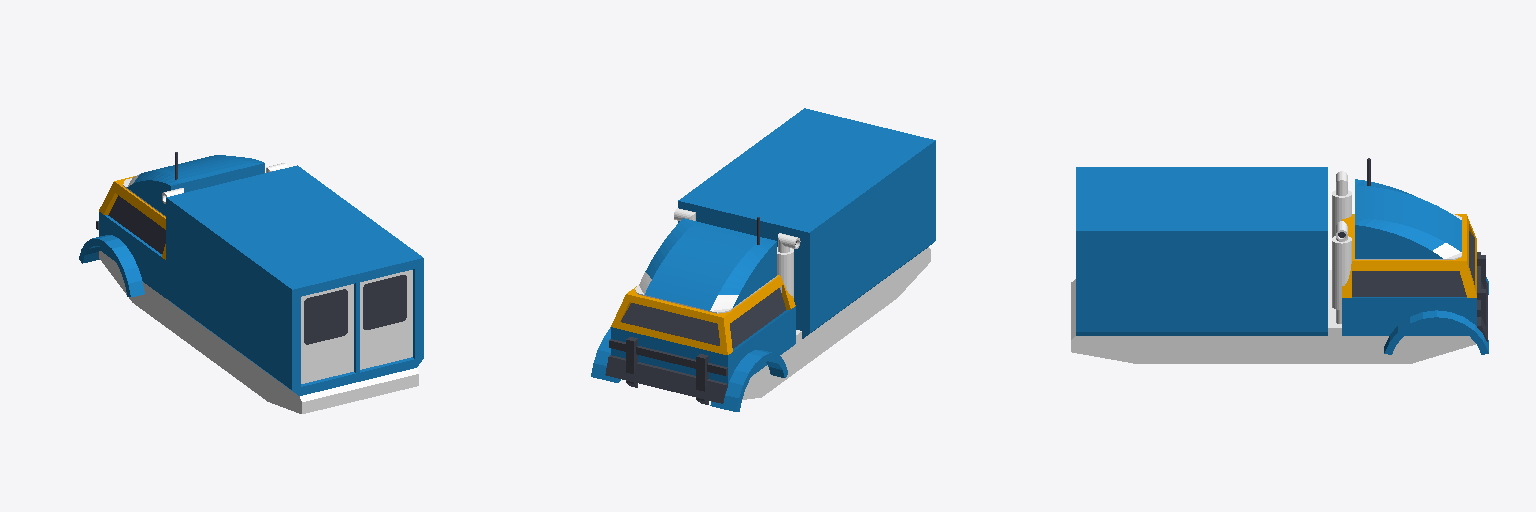
The model's file is Car03.obj.
3 views of the same model, side by side, from view 1: azimuth 30°, elevation 25°; view 2: azimuth 150°, elevation 25°; view 3: azimuth 270°, elevation 25° (orthographic).
Visible parts, largest first — view 1: Car03; view 2: Car03; view 3: Car03.
Part boxes in pixels (x1,y1,x2,y2): Car03: (79, 152, 423, 413); Car03: (591, 108, 935, 411); Car03: (1071, 158, 1488, 363).
Bounding box in the file's own units: 1.24 × 1.3 × 3.09.